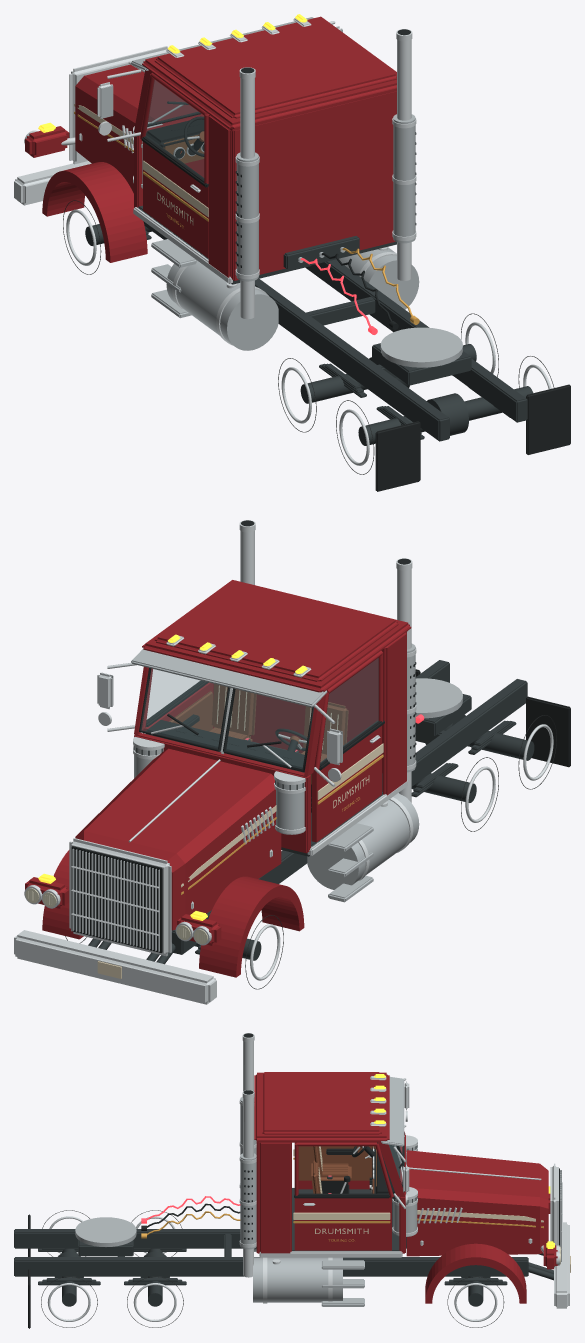
The model's file is BandTractor.fbx.
3 views of the same model, one above another, from view 1: azimuth 30°, elevation 25°; view 2: azimuth 150°, elevation 25°; view 3: azimuth 270°, elevation 25° (orthographic). The views are drawn at different scales.
Parts seen in each view (by area): view 1: BandTractor; view 2: BandTractor; view 3: BandTractor.
Part boxes in pixels (x1,y1,x2,y2): BandTractor: (14, 14, 570, 491); BandTractor: (14, 520, 570, 1004); BandTractor: (14, 1033, 570, 1328).
Size of the model in its own units: 315 by 382 by 836.
